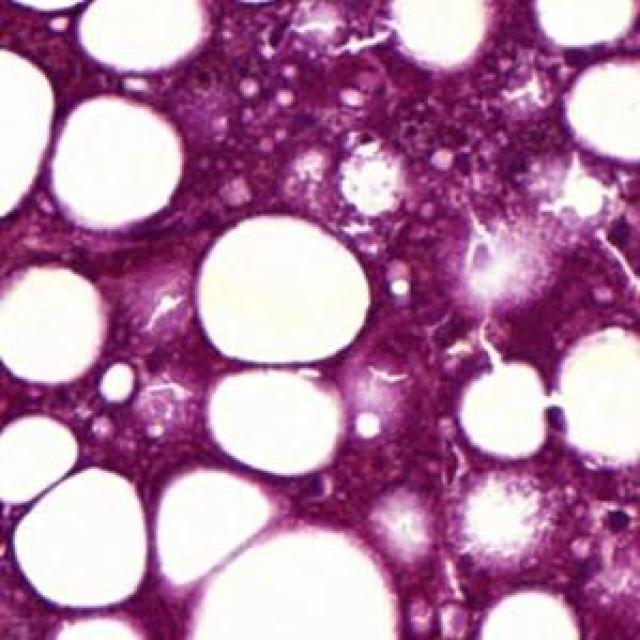steatosis: (195, 214, 370, 362), (0, 43, 56, 214), (2, 413, 81, 512), (477, 588, 582, 640)
